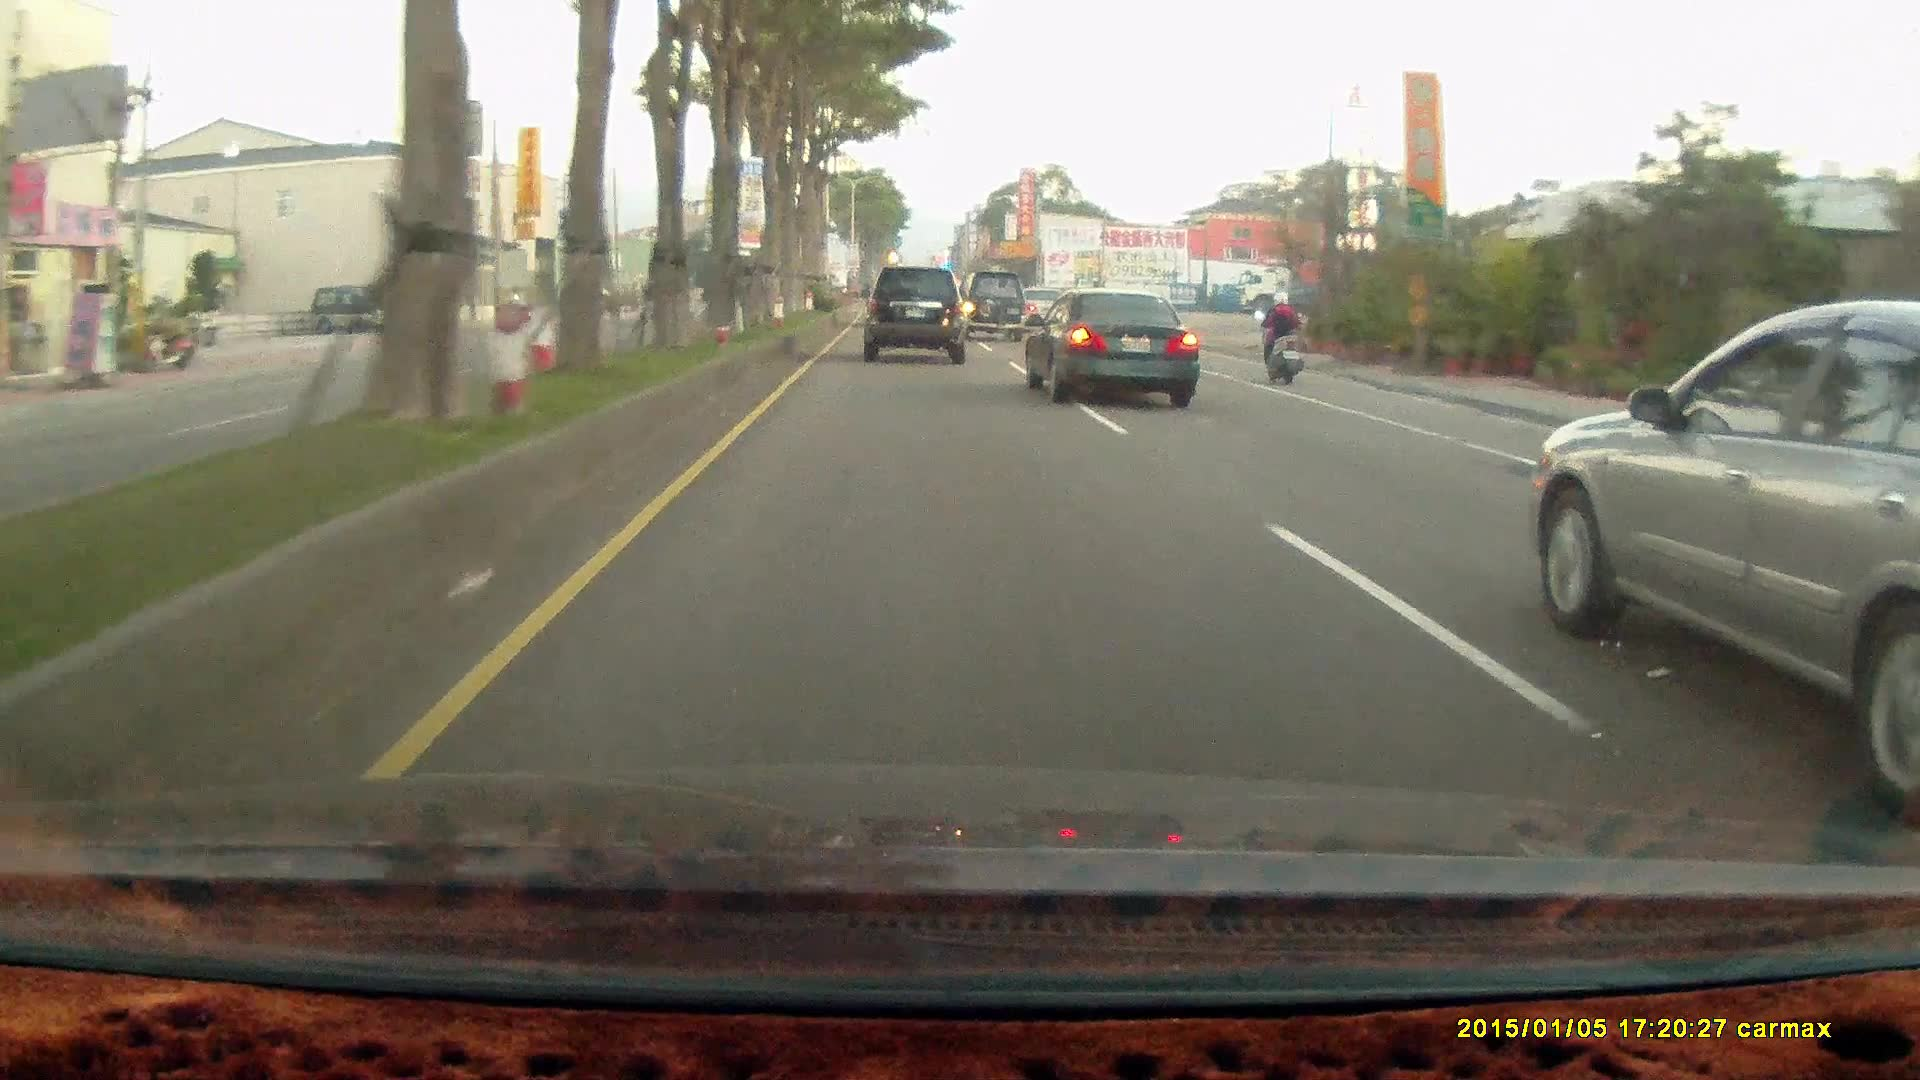rider: (1248, 283, 1314, 392), (1253, 288, 1303, 384)
vehicle: (1524, 295, 1918, 822), (1024, 285, 1199, 407), (1024, 287, 1204, 404), (1242, 264, 1460, 316), (861, 265, 972, 365), (861, 263, 966, 361), (307, 282, 414, 338), (955, 270, 1028, 345), (307, 286, 401, 334)
